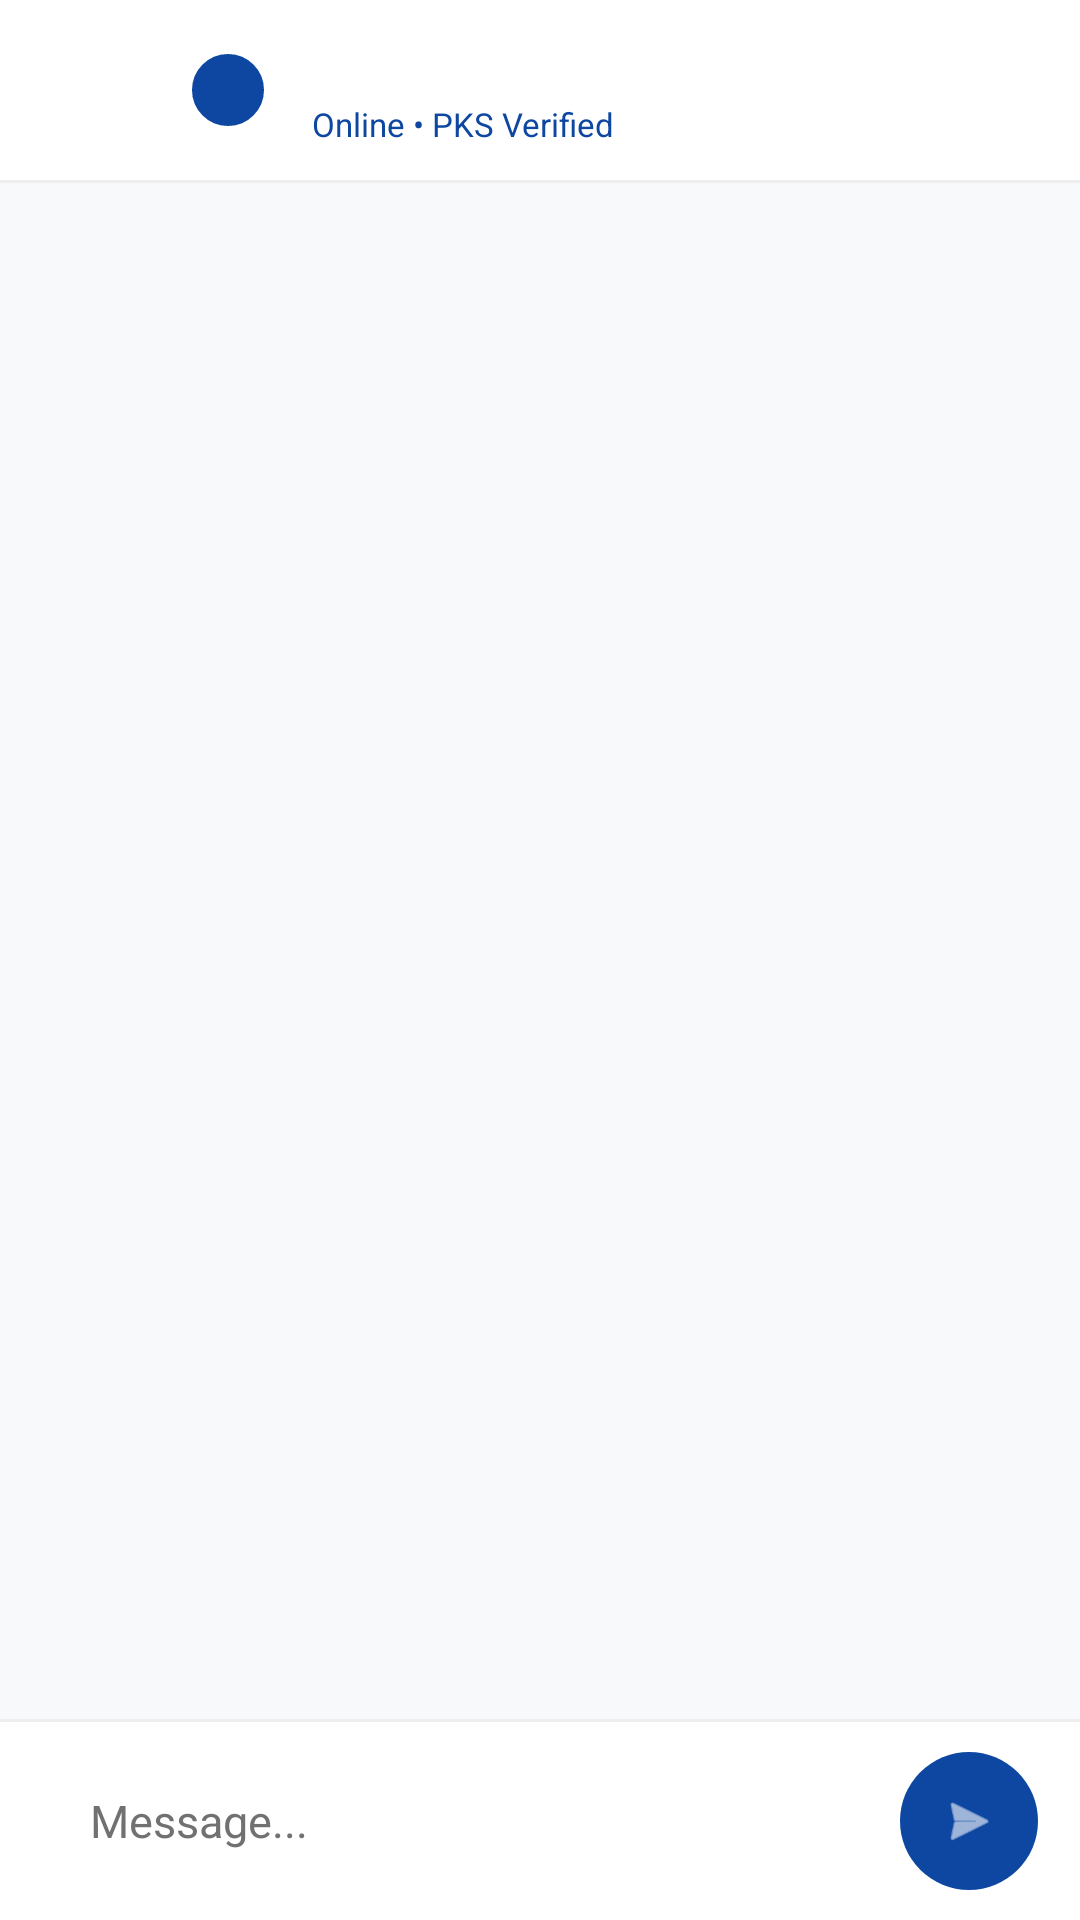

Icon click points for this 1080px x 1920px phone screenshot, format [x,y]:
Send: [969,1821]
